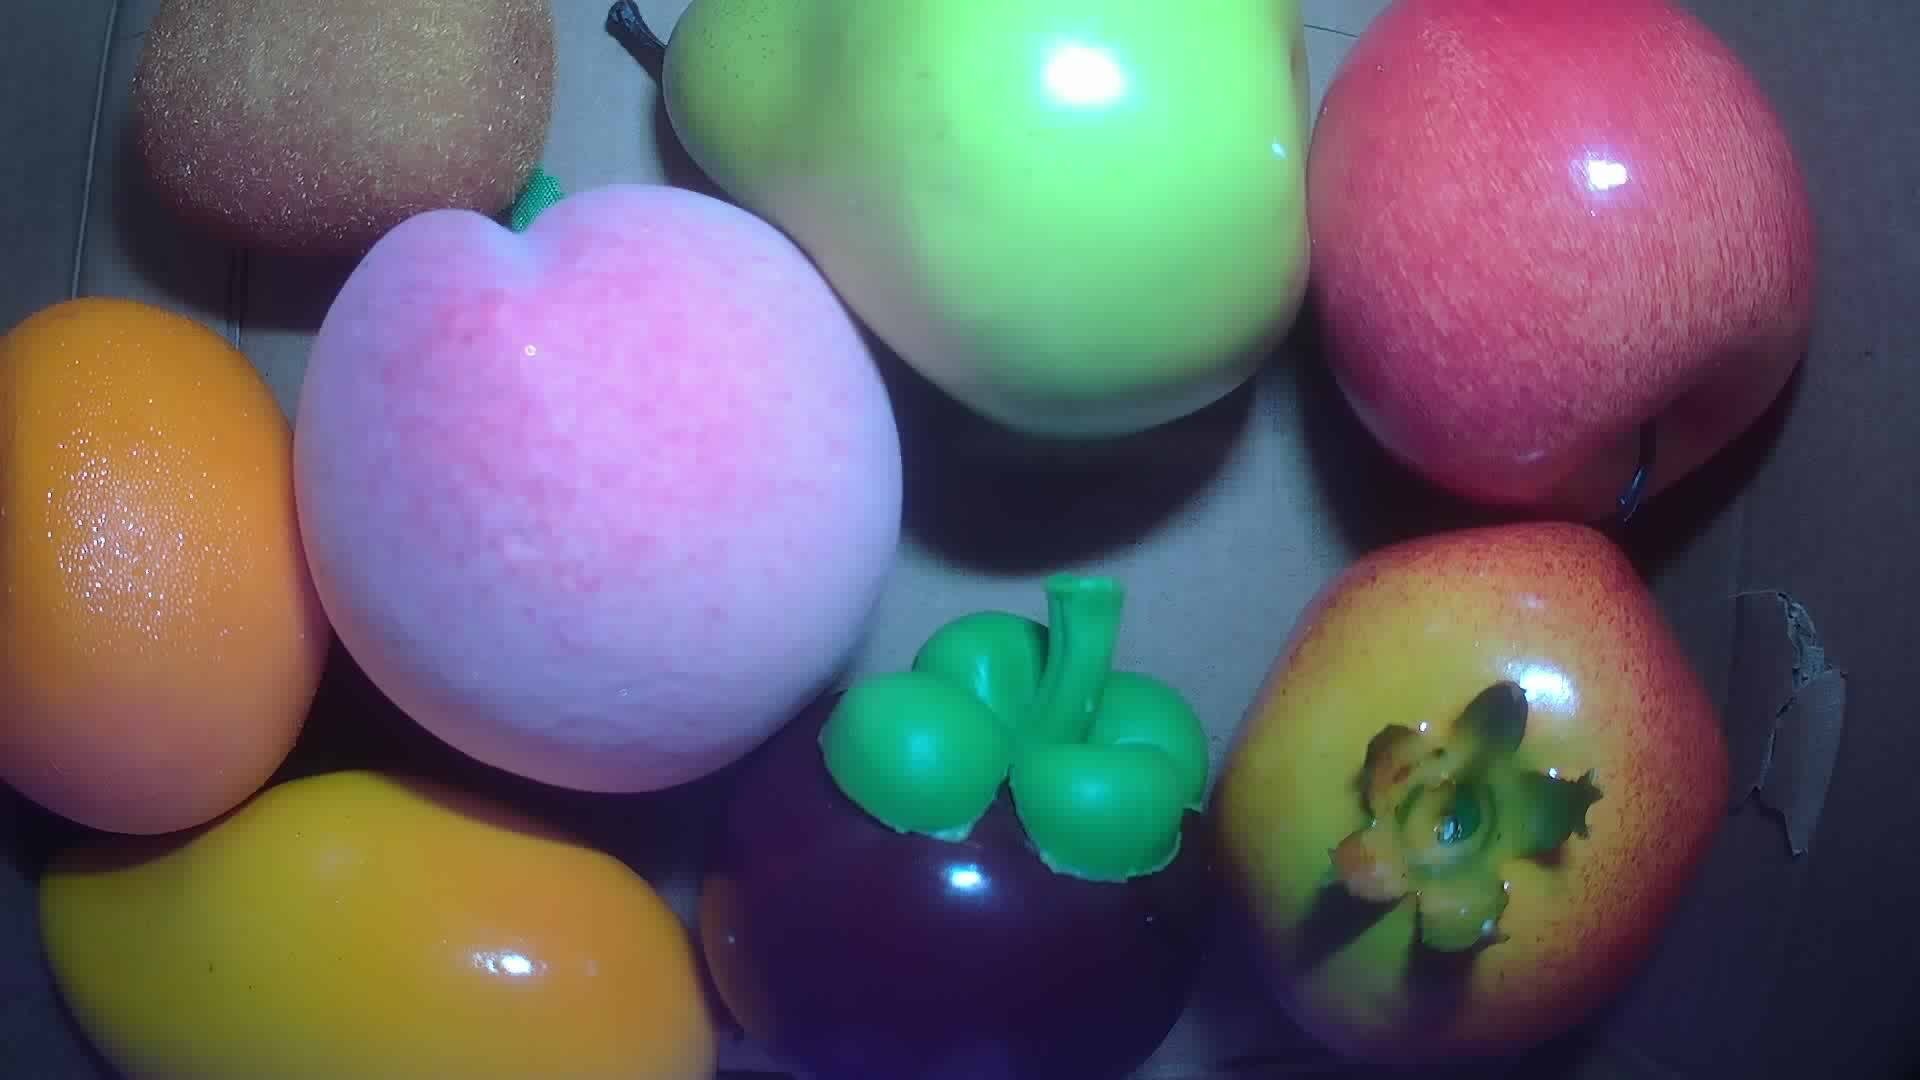apple: (1299, 1, 1818, 516)
kiwi: (127, 1, 556, 265)
mango: (25, 769, 717, 1080)
mangosteen: (695, 568, 1213, 1080)
orange: (1, 290, 338, 843)
peach: (301, 182, 905, 798)
pear: (605, 1, 1313, 443)
pomegranate: (1201, 516, 1725, 1080)
